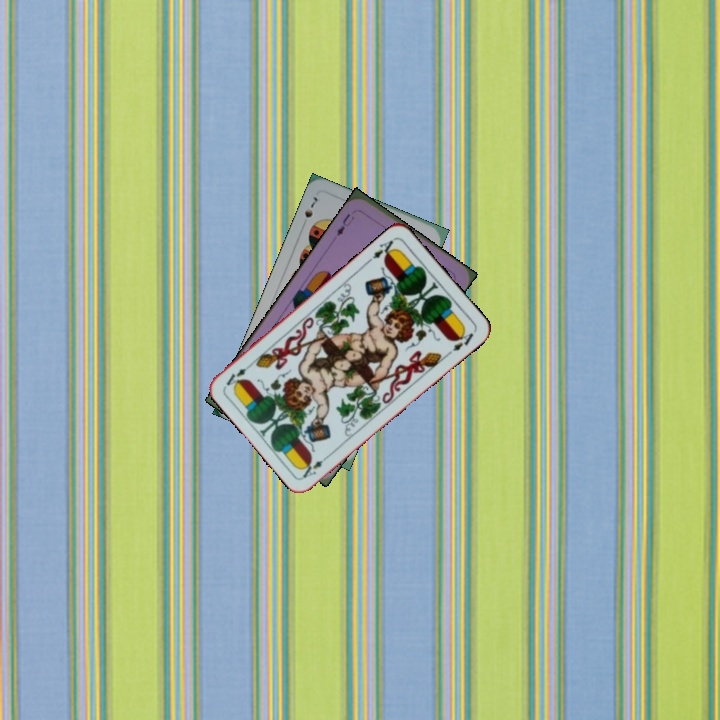EA: (363, 234, 398, 265), (298, 450, 333, 480)
EU: (332, 209, 357, 239)
S7: (300, 192, 320, 221)
